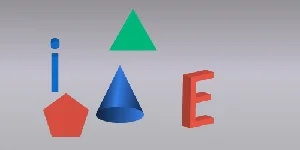三角形: (108, 7, 160, 54)
五边形: (42, 92, 90, 140)
圆锥体: (94, 64, 146, 125)
大写字母: (180, 68, 217, 129)
小写字母: (47, 37, 62, 93)
